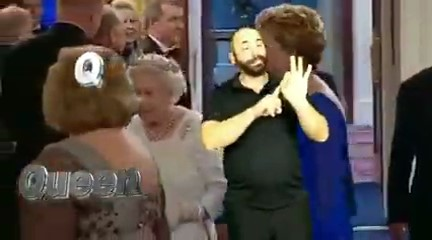Q: (252, 52, 315, 119)
